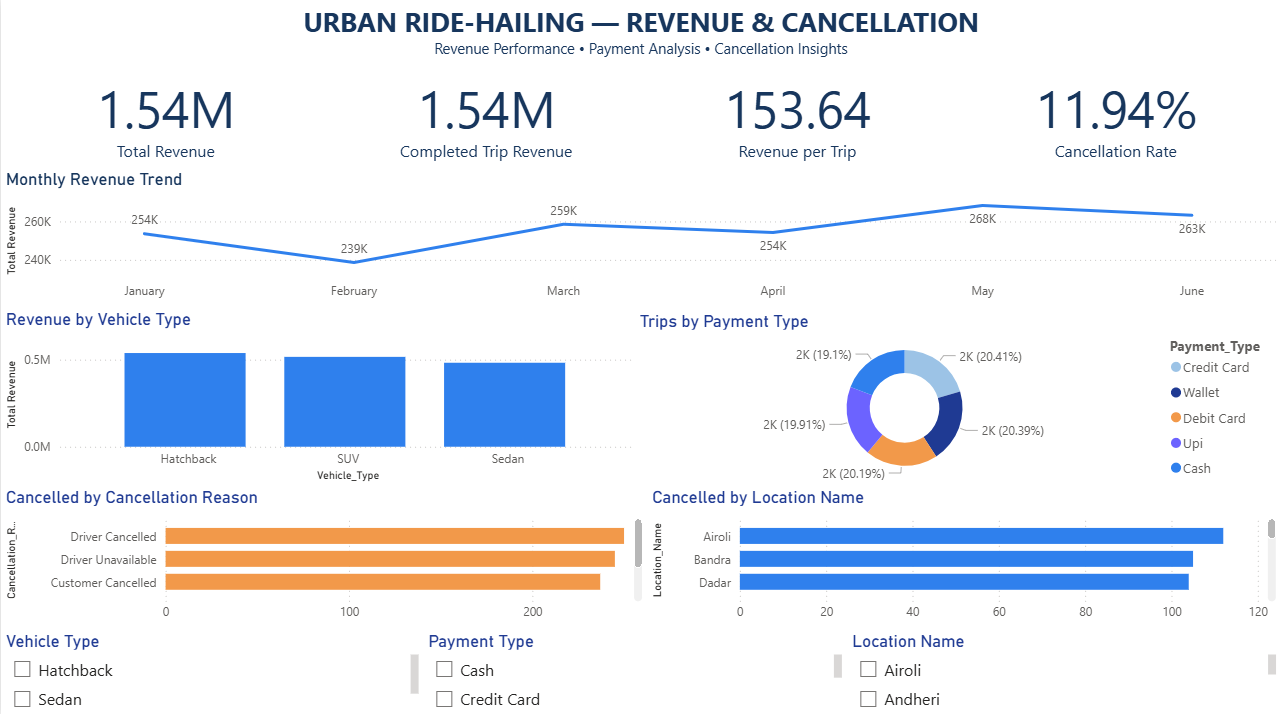

The dashboard page shown, as its layout file describes it:
{"tool":"powerbi","page":{"name":"Revenue & Cancellation","canvas":[1280,720],"ordinal":3},"visuals":[{"type":"textbox","box":[0,0,1280,68],"z":0},{"type":"card","fields":{"Values":["FactTrips.Total Revenue"]},"box":[0,68,330,104],"z":1000},{"type":"card","fields":{"Values":["FactTrips.Revenue per Trip"]},"box":[641.8,68.1,310.8,104],"z":2000},{"type":"card","fields":{"Values":["FactTrips.Cancellation Rate"]},"box":[950,68,330,104],"z":3000},{"type":"card","fields":{"Values":["FactTrips.Completed Trip Revenue"]},"box":[327.7,68.1,315.7,104],"z":4000},{"type":"lineChart","title":"Monthly Revenue Trend","fields":{"Y":["FactTrips.Total Revenue"],"Category":["DimDate.Month Name"]},"box":[0,171.2,1280,140],"z":5000},{"type":"clusteredColumnChart","title":"Revenue by Vehicle Type","fields":{"Category":["DimVehicle.Vehicle_Type"],"Y":["FactTrips.Total Revenue"]},"box":[0,311.2,640,177.5],"z":6000},{"type":"donutChart","title":"Trips by Payment Type","fields":{"Category":["FactTrips.Payment_Type"],"Y":["FactTrips.Total Trips"]},"box":[634,312,646,176],"z":7000},{"type":"clusteredBarChart","title":"Cancelled by Cancellation Reason","fields":{"Category":["FactTrips.Cancellation_Reason"],"Y":["FactTrips.Cancelled Trips"]},"box":[0,488.8,646.2,143.8],"z":8000},{"type":"clusteredBarChart","title":"Cancelled by Location Name","fields":{"Category":["DimLocation.Location_Name"],"Y":["FactTrips.Cancelled Trips"]},"box":[646.2,488.8,633.8,143.8],"z":9000},{"type":"slicer","title":"Vehicle Type","fields":{"Values":["DimVehicle.Vehicle_Type"]},"box":[0,632.5,422.5,87.5],"z":10000},{"type":"slicer","title":"Payment Type","fields":{"Values":["FactTrips.Payment_Type"]},"box":[422.5,632.5,423.8,87.5],"z":11000},{"type":"slicer","title":"Location Name","fields":{"Values":["DimLocation.Location_Name"]},"box":[846.2,632.5,433.8,87.5],"z":12000}]}

Visuals, with their boxes in screenshot pixels (x1, y1, x2, y2), scaled from the page's 1280x720 canvas onto the 1279x714 screenshot:
textbox: Rect(0, 0, 1278, 67)
card - FactTrips.Total Revenue: Rect(0, 67, 330, 171)
card - FactTrips.Revenue per Trip: Rect(641, 68, 952, 171)
card - FactTrips.Cancellation Rate: Rect(949, 67, 1278, 171)
card - FactTrips.Completed Trip Revenue: Rect(327, 68, 643, 171)
"Monthly Revenue Trend" lineChart: Rect(0, 170, 1278, 309)
"Revenue by Vehicle Type" clusteredColumnChart: Rect(0, 309, 640, 485)
"Trips by Payment Type" donutChart: Rect(634, 309, 1278, 484)
"Cancelled by Cancellation Reason" clusteredBarChart: Rect(0, 485, 646, 627)
"Cancelled by Location Name" clusteredBarChart: Rect(646, 485, 1278, 627)
"Vehicle Type" slicer: Rect(0, 627, 422, 713)
"Payment Type" slicer: Rect(422, 627, 846, 713)
"Location Name" slicer: Rect(846, 627, 1278, 713)
